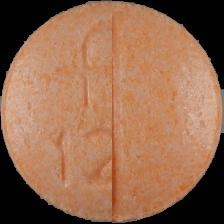51655-353: (0, 0, 224, 224)
